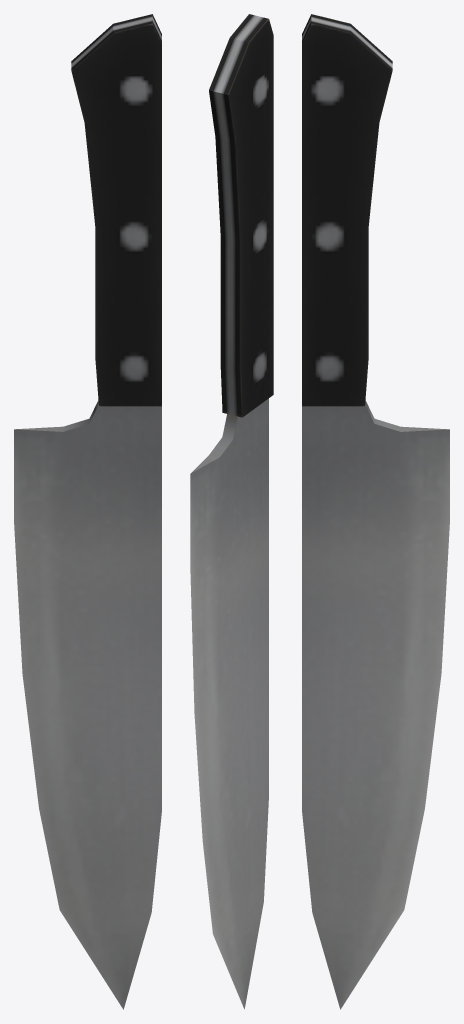
Rendered from Knife.fbx.
The picture shows the model from 3 angles, left to right: view 1: azimuth 90°, elevation 25°; view 2: azimuth 150°, elevation 25°; view 3: azimuth 270°, elevation 25°; orthographic projection.
Parts seen in each view (by area): view 1: Knife.X_Knife; view 2: Knife.X_Knife; view 3: Knife.X_Knife.
Part boxes in pixels (x1,y1,x2,y2): Knife.X_Knife: (14, 14, 161, 1009); Knife.X_Knife: (190, 14, 273, 1009); Knife.X_Knife: (302, 14, 449, 1009).
Bounding box in the file's own units: 0.00518 × 0.2436 × 0.033.
